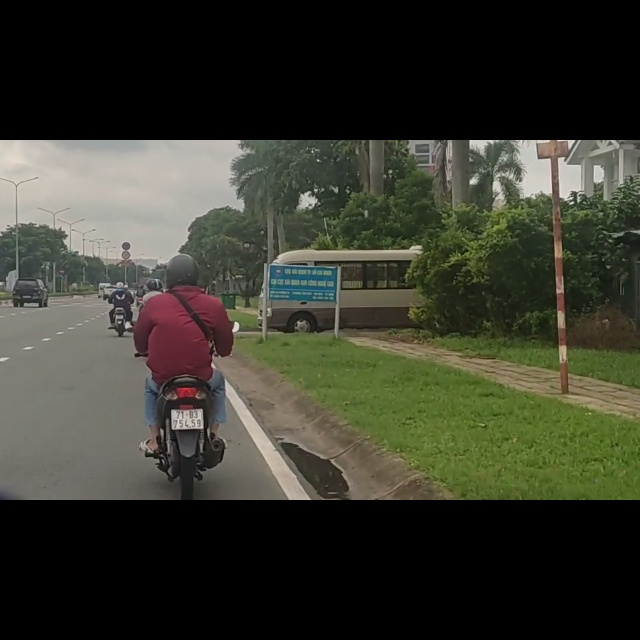bien_cam: (122, 180, 131, 196), (121, 198, 131, 212), (59, 238, 66, 249), (58, 228, 65, 238)
